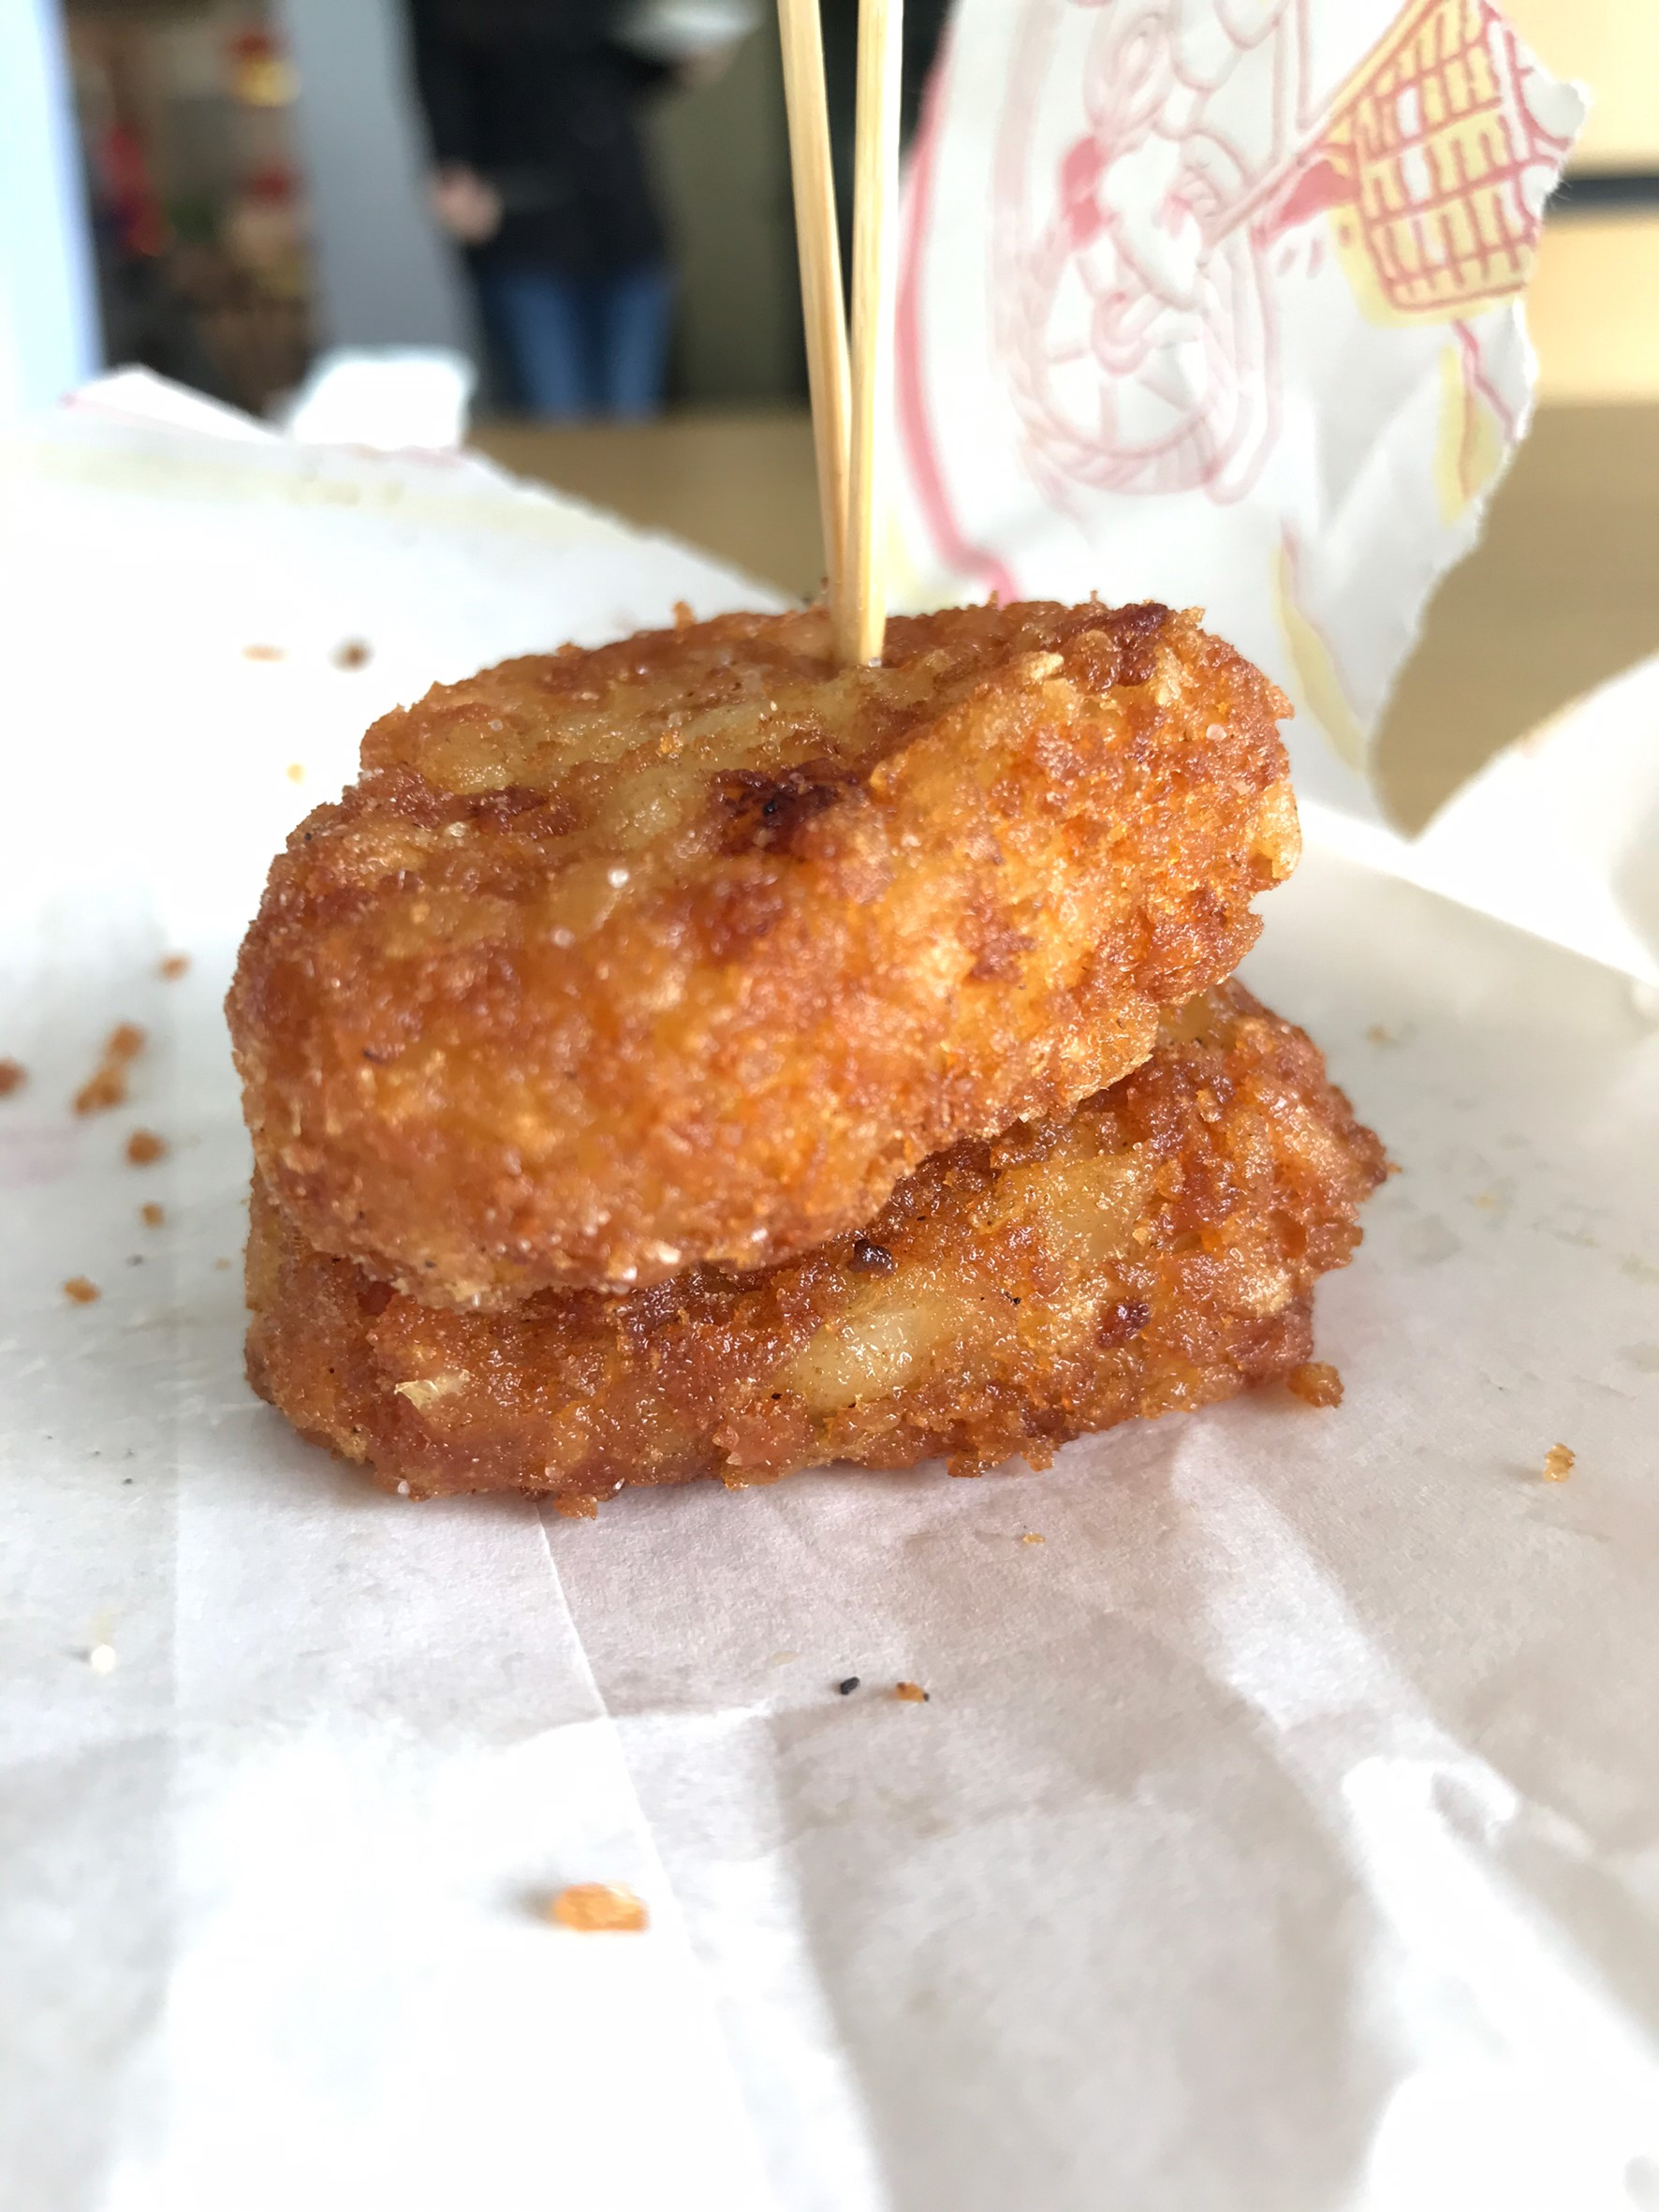triangle_hash_brown: (270, 643, 1295, 1464)
